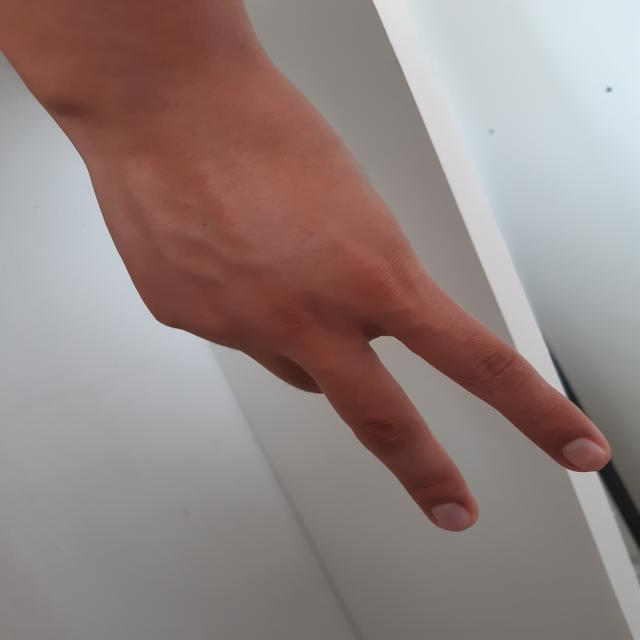EYE: (61, 117, 617, 538)
